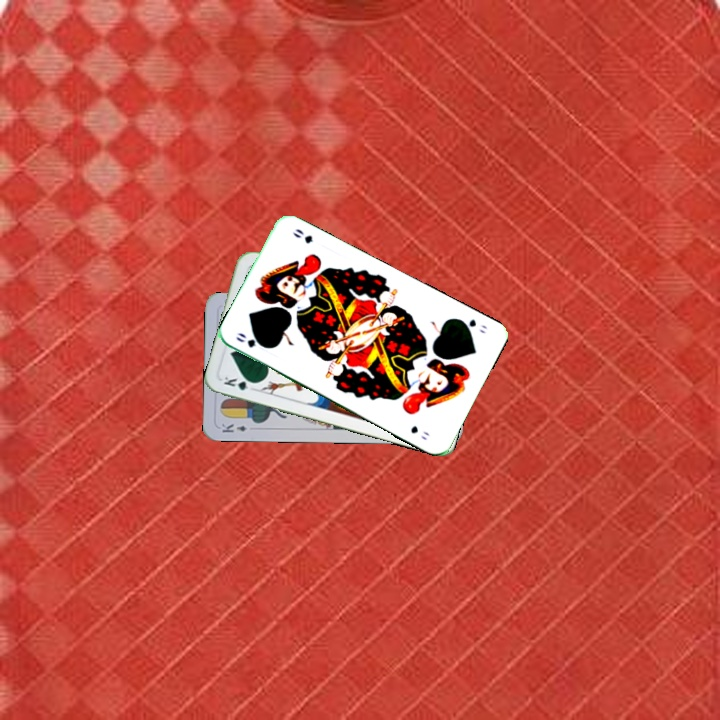EK: (217, 419, 258, 435)
GK: (220, 372, 259, 393)
GO: (232, 329, 271, 351), (454, 315, 490, 336)
